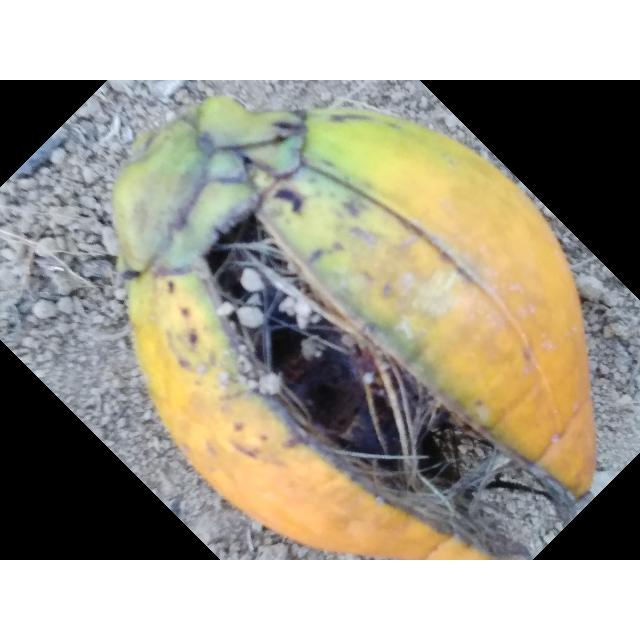damaged: (111, 80, 612, 560)
